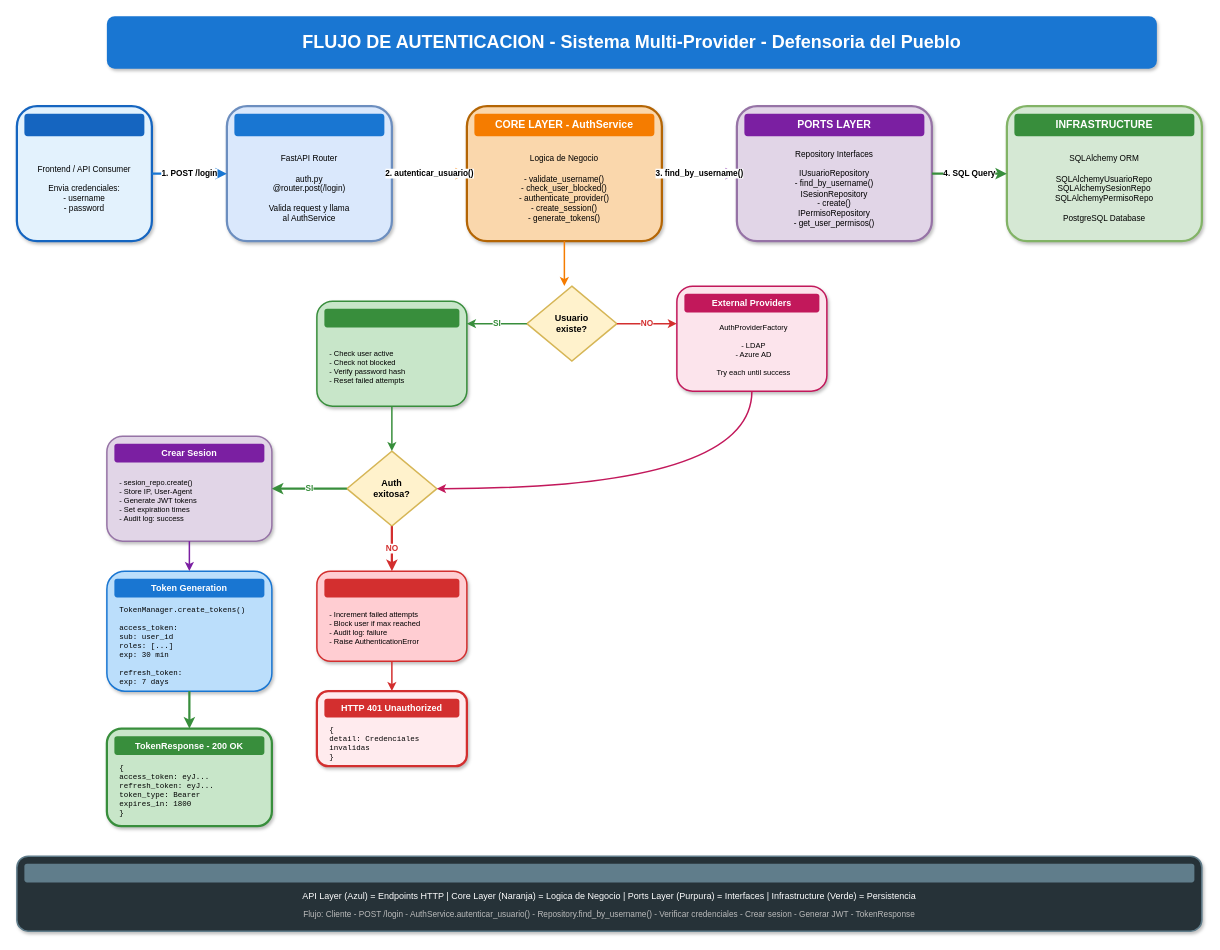
Some shapes in this 1220 by 950 pixel diagram are drawn without their labels. The centre of each missing label's shape, as x and y in pixels:
"API LAYER" belongs at [309,124].
"CLIENTE" belongs at [84,124].
"Error Handler" belongs at [391,587].
"LEYENDA DEL FLUJO" belongs at [609,872].
"Verificar Credenciales" belongs at [391,317].
